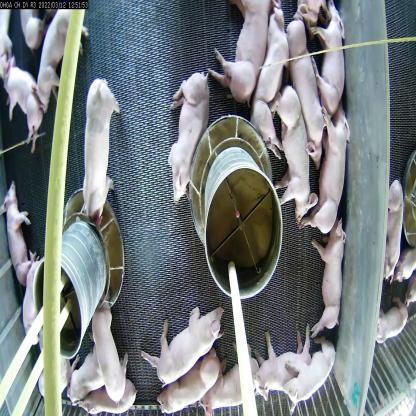Pig: (33, 3, 98, 121), (73, 73, 118, 209), (151, 301, 225, 382), (308, 102, 347, 232), (164, 70, 206, 190), (286, 11, 322, 142), (275, 89, 316, 203), (218, 0, 272, 86), (312, 8, 348, 121), (314, 229, 346, 337), (161, 357, 220, 415), (0, 174, 33, 275), (5, 59, 40, 140), (260, 8, 282, 136), (252, 333, 303, 388), (288, 348, 334, 406), (88, 313, 121, 385), (205, 363, 254, 408), (23, 261, 43, 350), (67, 362, 100, 397), (89, 389, 127, 415)
